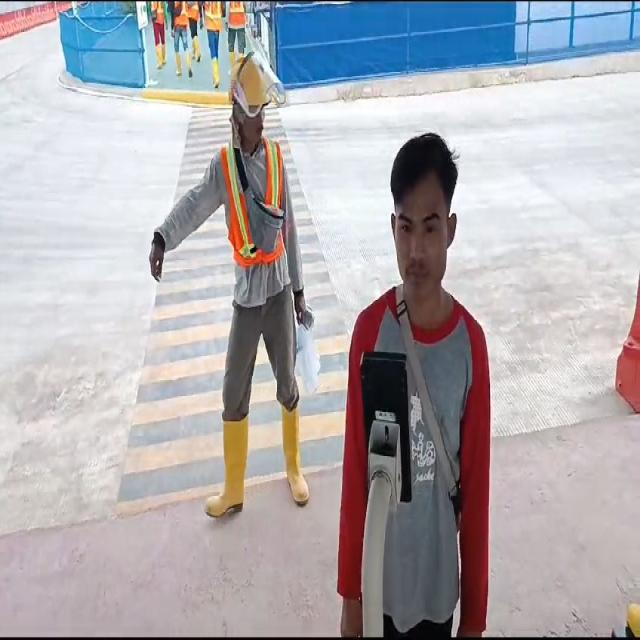helmet: (228, 55, 274, 114)
safety_vest: (224, 141, 286, 271), (227, 0, 246, 27), (206, 0, 224, 27)
